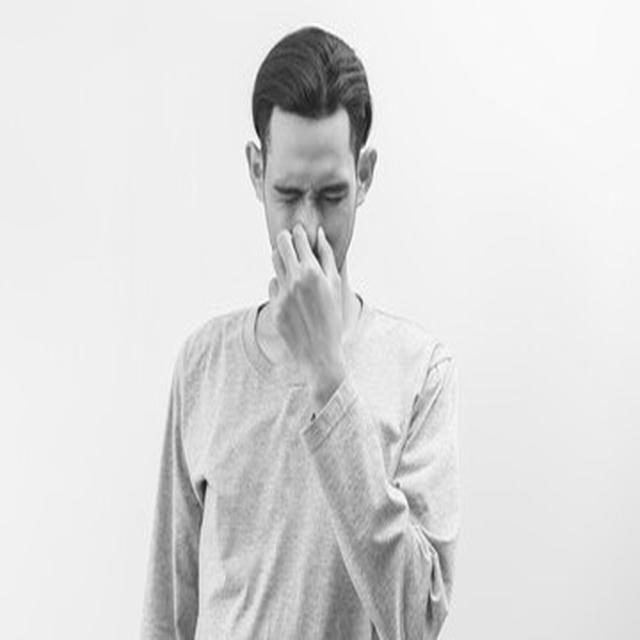Disgust: (264, 119, 356, 311)
